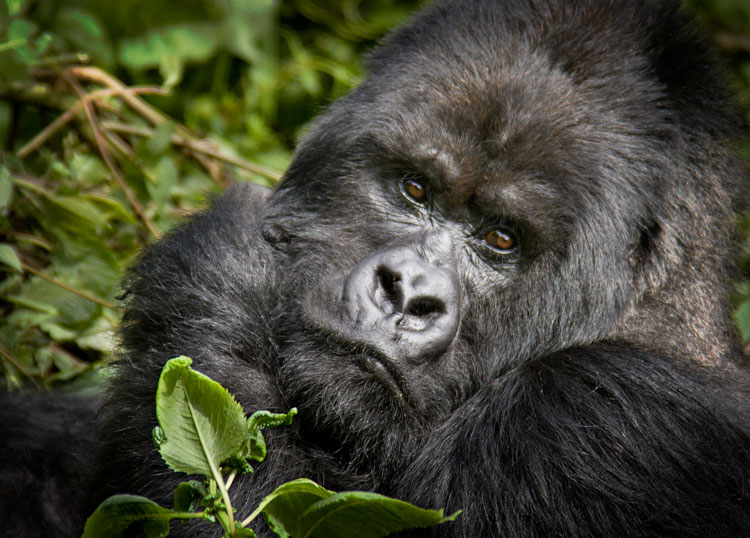Goriila: (61, 8, 732, 538)
